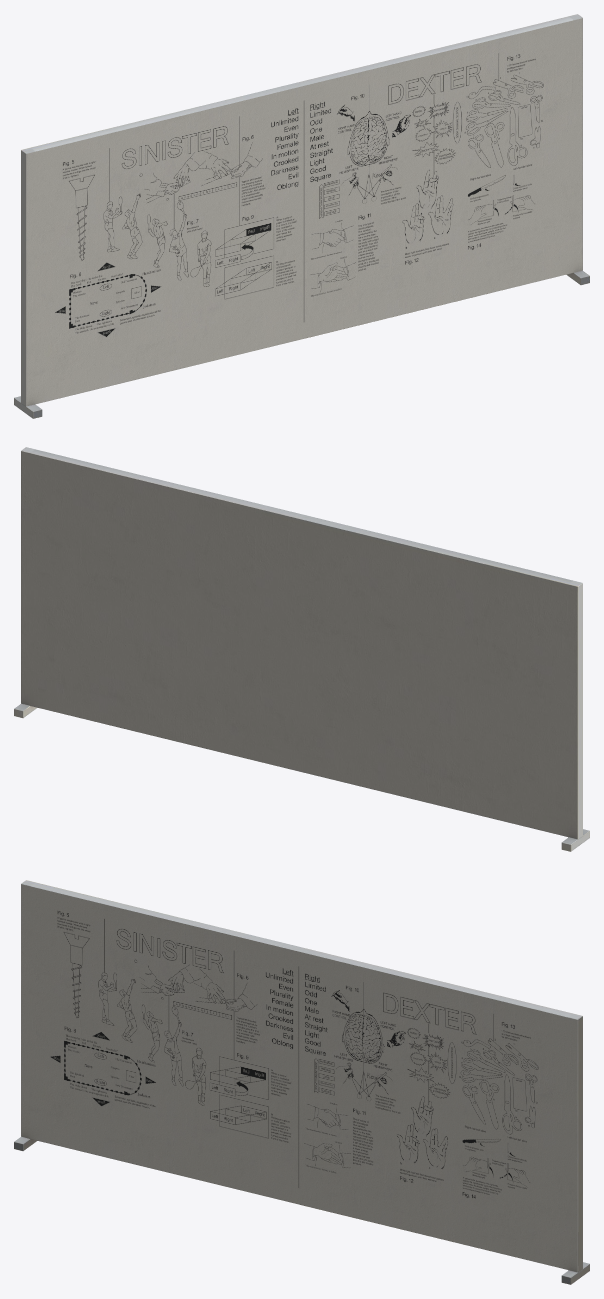
The picture shows the model from 3 angles, top to bottom: view 1: azimuth 30°, elevation 25°; view 2: azimuth 150°, elevation 25°; view 3: azimuth 330°, elevation 25°; orthographic projection.
Parts seen in each view (by area): view 1: Dexter & Sinister_4; view 2: Dexter & Sinister_4; view 3: Dexter & Sinister_4.
Part boxes in pixels (box(x1,y1,x2,y2)): Dexter & Sinister_4: box(14, 14, 589, 418); Dexter & Sinister_4: box(14, 447, 589, 851); Dexter & Sinister_4: box(14, 880, 589, 1284).
Size of the model in its own units: 5.01 by 2.24 by 0.2983.
Materials: 2 (2 with a texture image).
